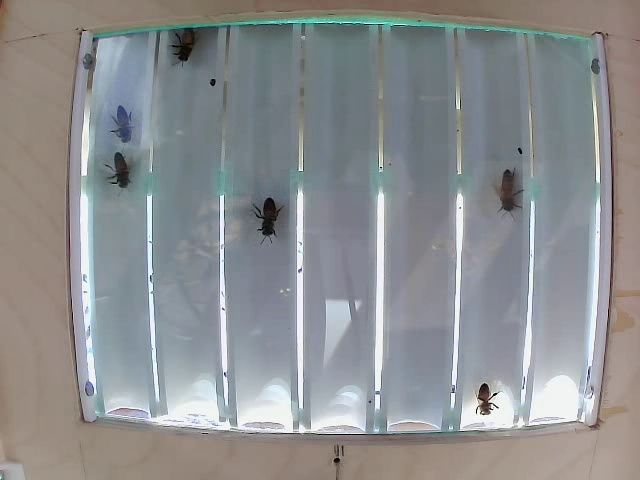bee: (257, 192, 282, 253), (167, 21, 210, 53), (110, 105, 146, 142), (117, 154, 143, 191), (497, 166, 520, 204), (472, 384, 494, 414)
